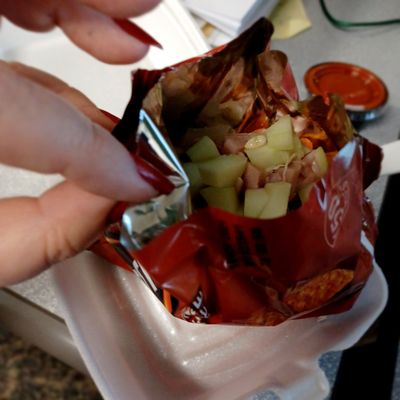sushi: (303, 61, 390, 123)
